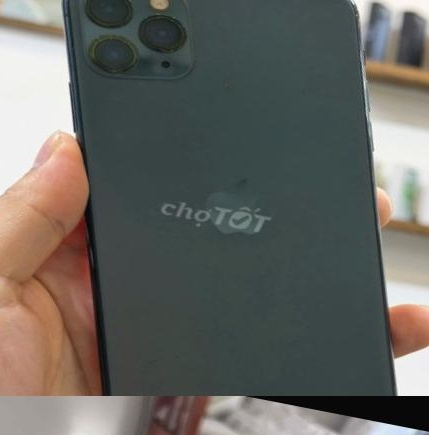scratch: (89, 27, 141, 53), (209, 73, 243, 105), (343, 67, 383, 93), (341, 0, 366, 33), (160, 35, 189, 59), (157, 7, 189, 26), (77, 46, 105, 66), (99, 0, 141, 11)
